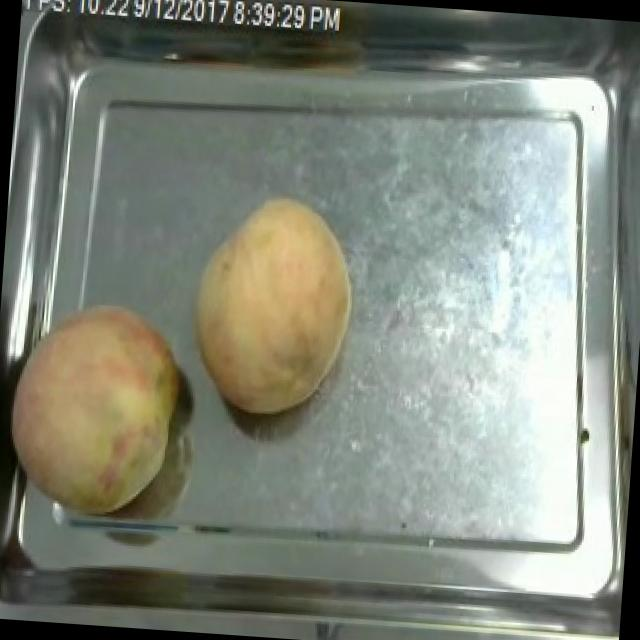Fruit: (0, 286, 195, 526), (176, 187, 368, 429)
